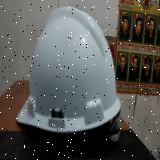Helmet: (16, 7, 121, 133)
